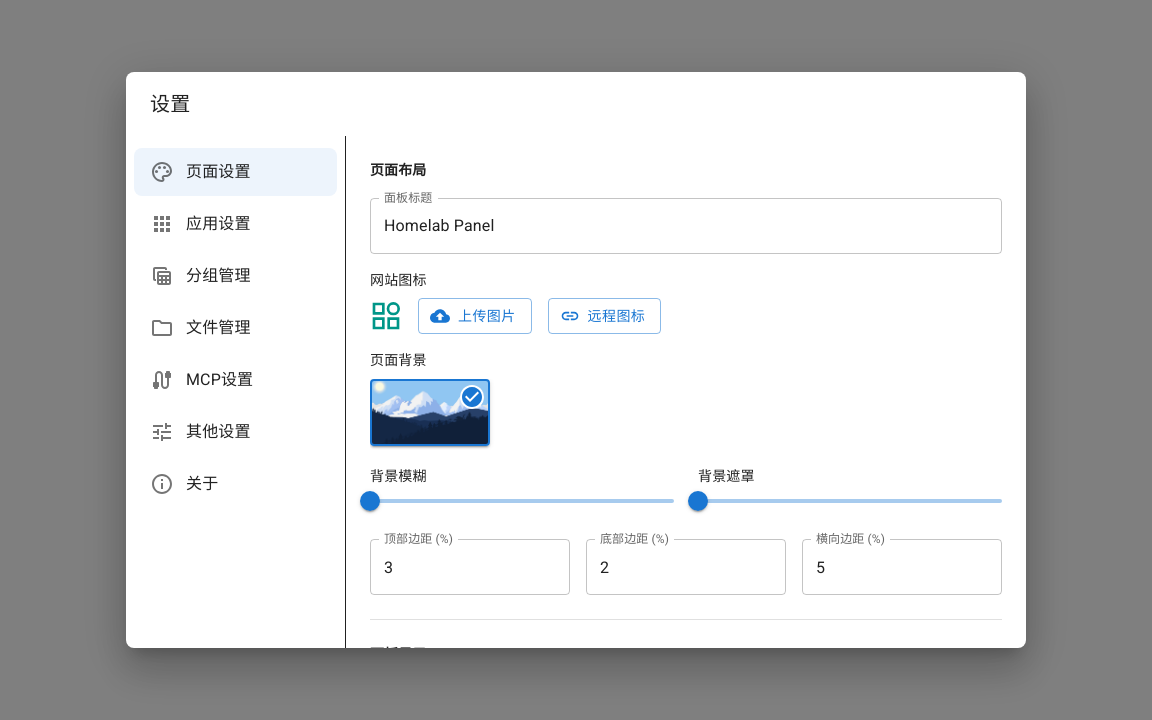
Test: AppStarter › 点击文件管理 Tab 立即切换到文件面板
The width and height of the screenshot is (1152, 720).
Click the button "文件管理" at (200, 328), box 150,316 -> 251,340
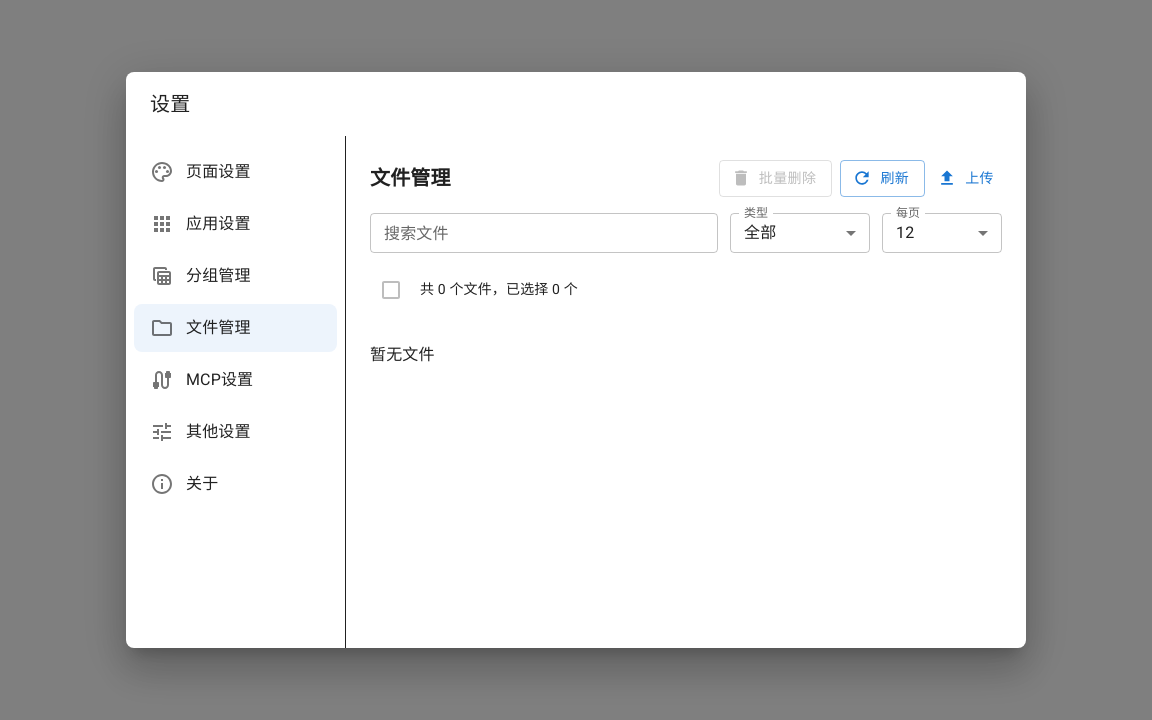
Now the text "暂无文件" is shown, box 370,344 -> 435,364
Now the heading "页面布局" is gone
